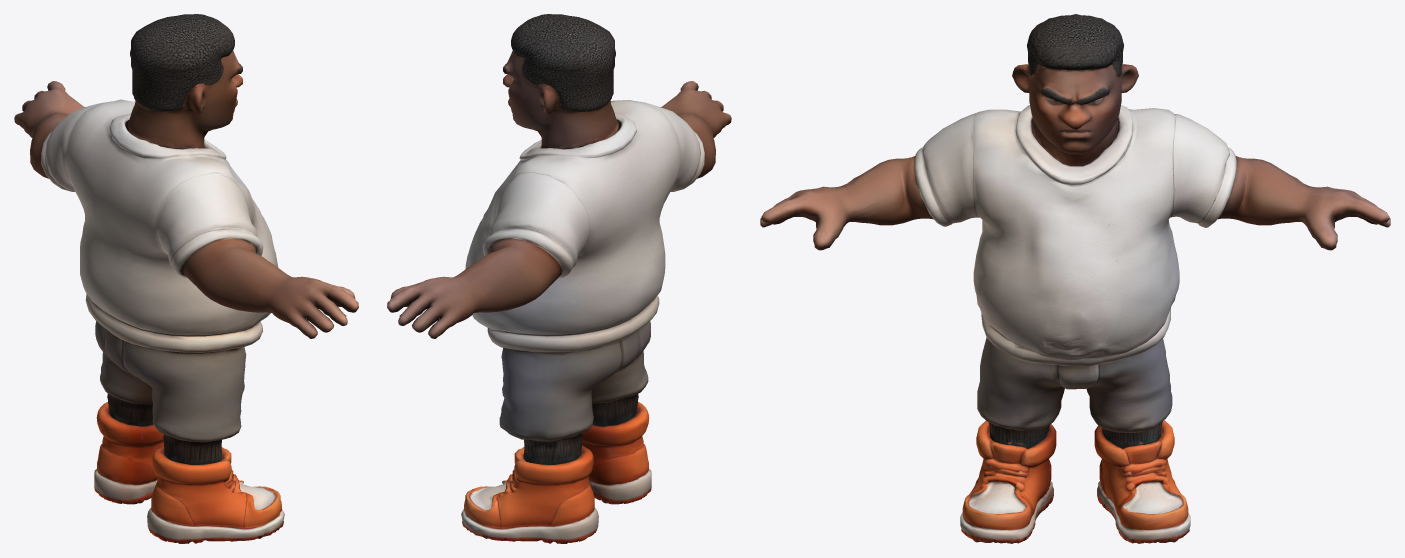
The picture shows the model from 3 angles, left to right: view 1: azimuth 30°, elevation 25°; view 2: azimuth 150°, elevation 25°; view 3: azimuth 270°, elevation 25°; orthographic projection. The views are drawn at different scales.
Visible parts, largest first — view 1: tripo_node_20e10ec6; view 2: tripo_node_20e10ec6; view 3: tripo_node_20e10ec6.
Part boxes in pixels (<box>): tripo_node_20e10ec6: <box>14,14,358,543</box>; tripo_node_20e10ec6: <box>387,14,731,543</box>; tripo_node_20e10ec6: <box>760,14,1390,543</box>.
Bounding box in the file's own units: 0.3268 × 0.8689 × 1.
Materials: 1 (1 with a texture image).
